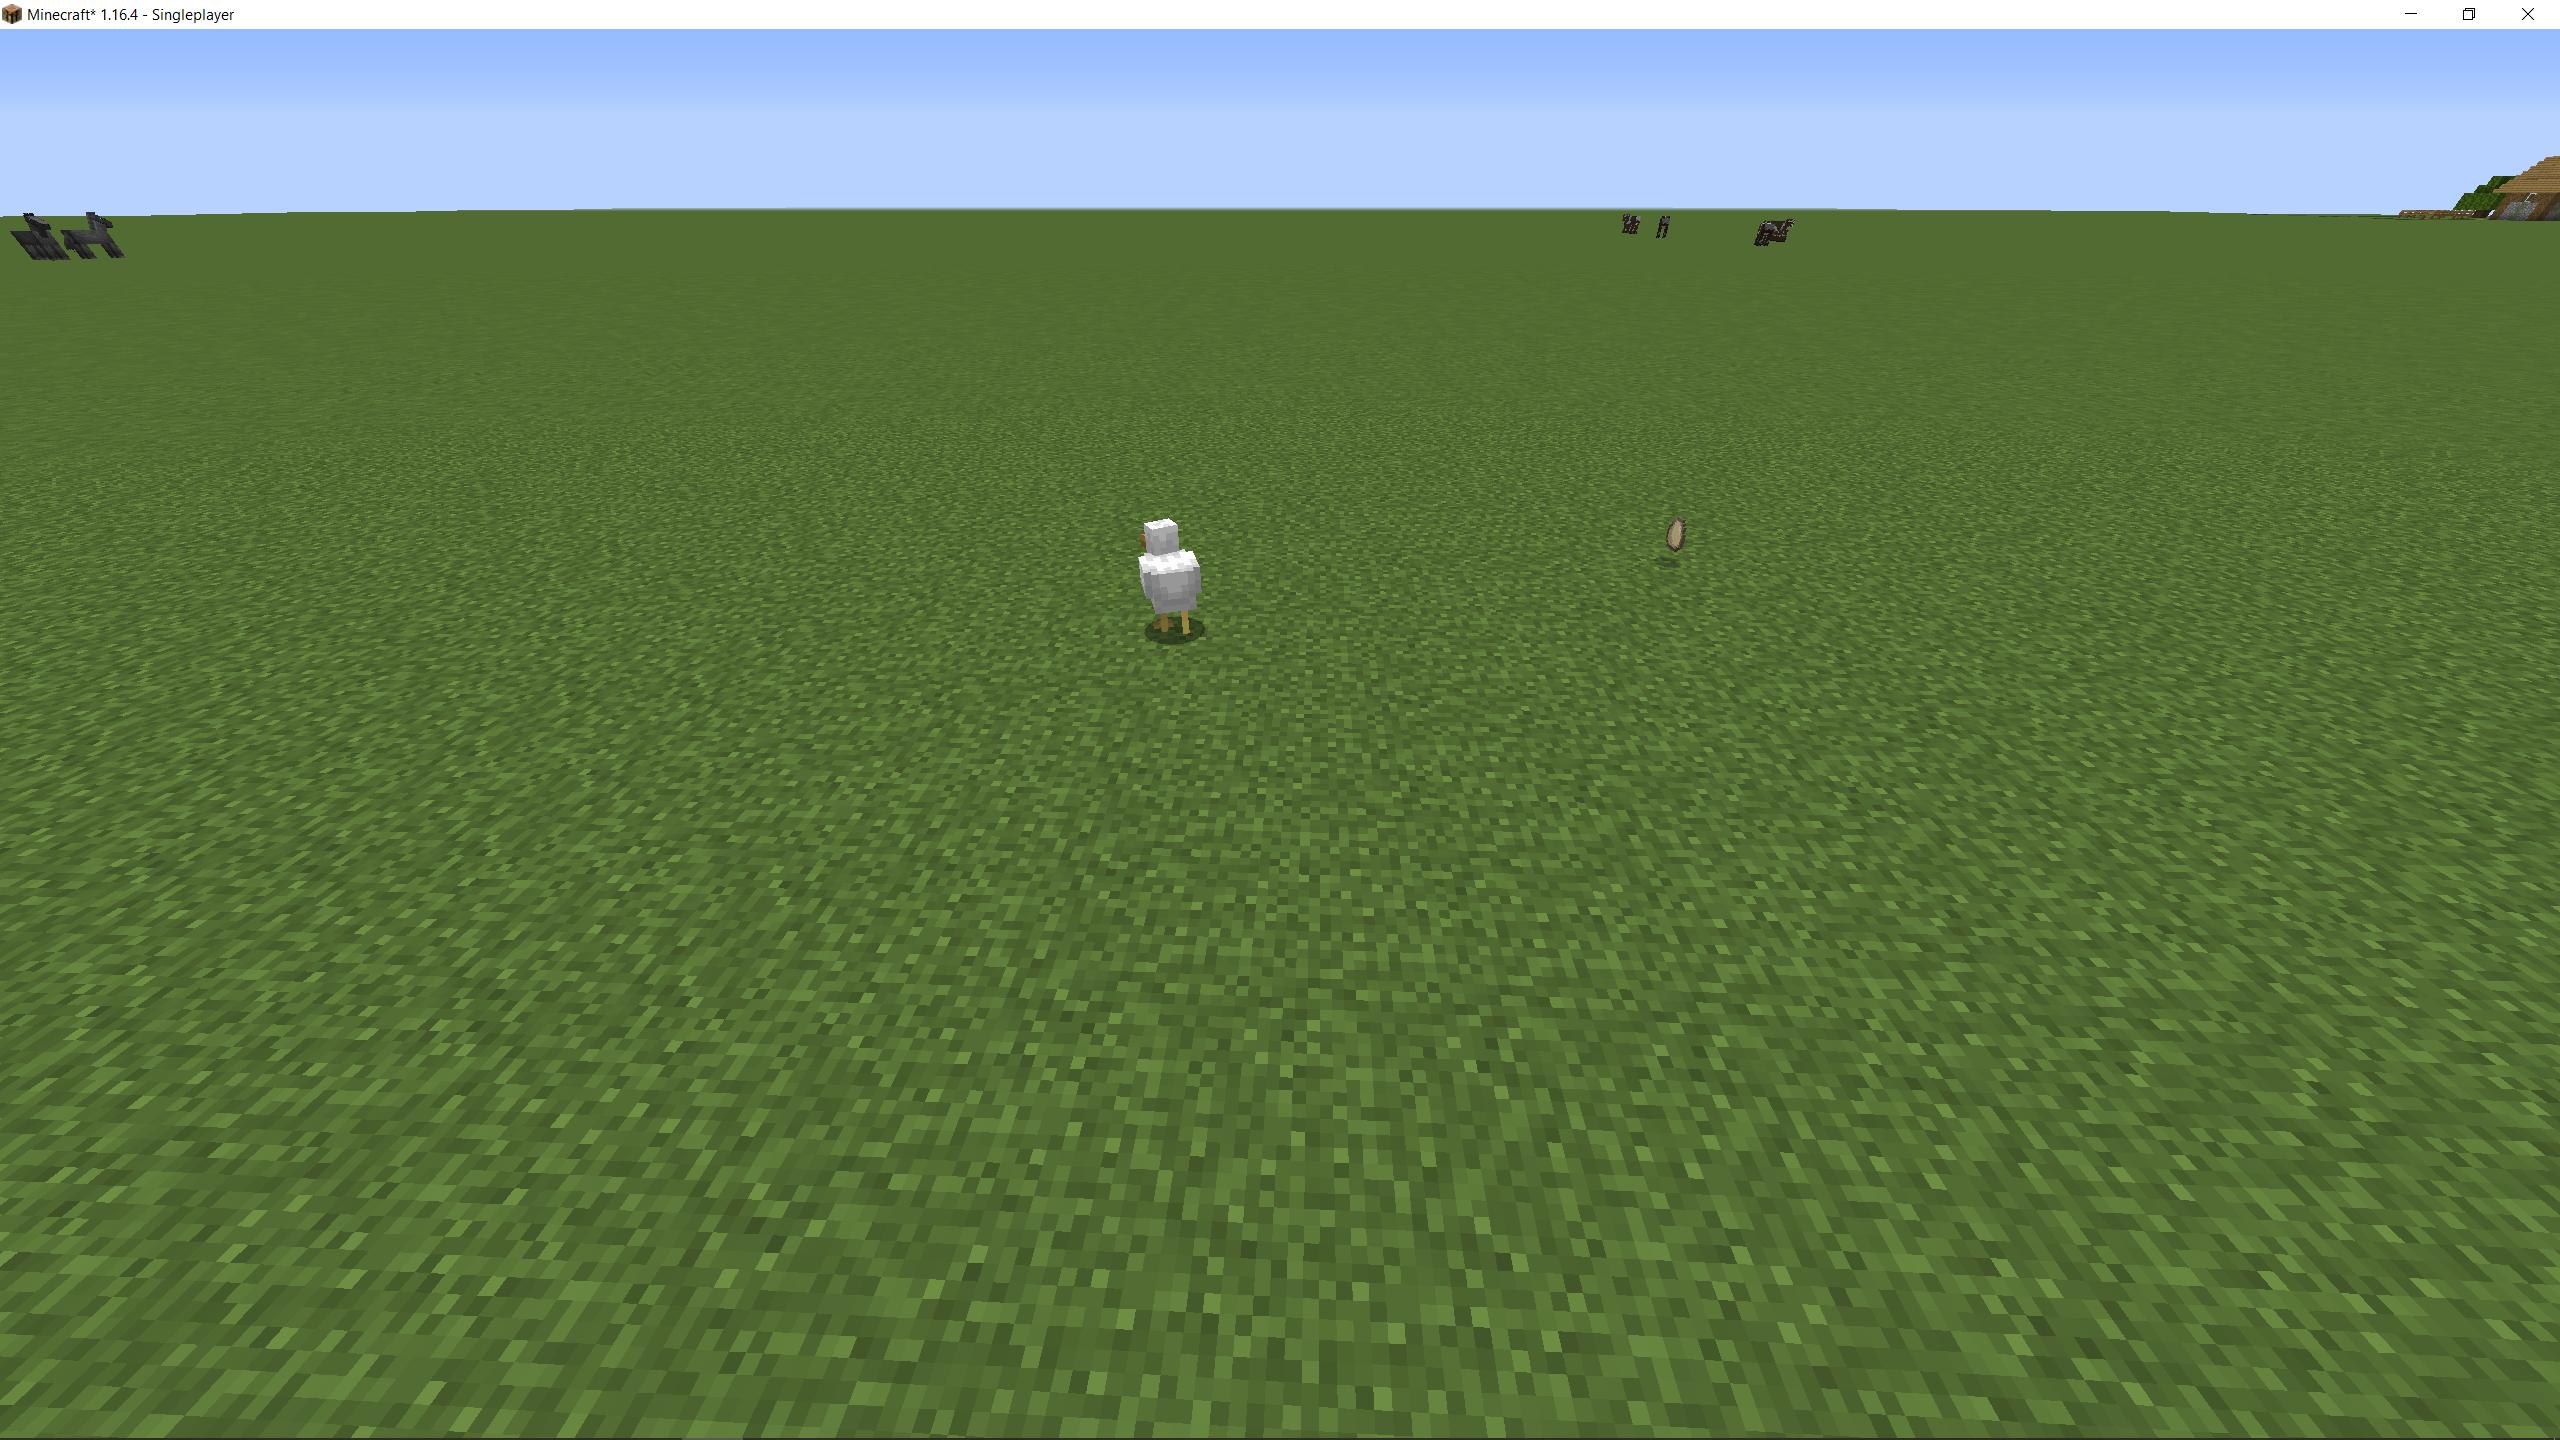chicken: (1125, 513, 1211, 642)
